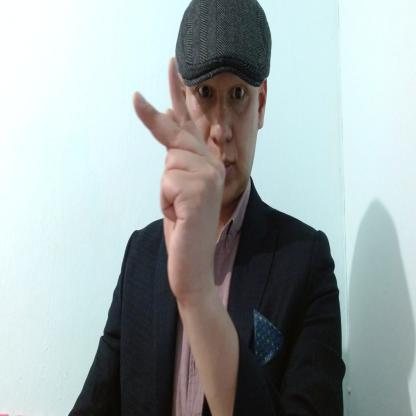P: (132, 57, 227, 295)
